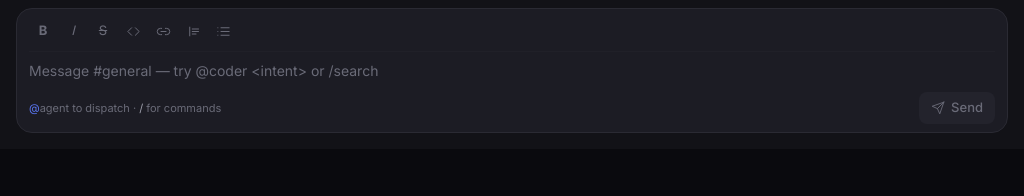
it: Composer › offers @mention autocomplete and inserts the picked handle (#108)
Type "@co" into the text box with placeholder "Message #general — try @coder <intent> or /search". click: (512, 72)
box: x1=29 y1=60 x2=995 y2=84
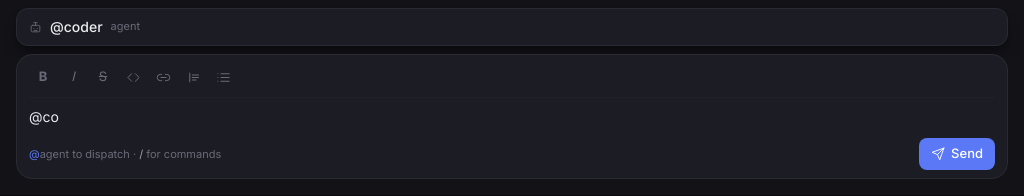
Result: the text "@coder" is shown
Click the text "@coder". click: (76, 27)
box: x1=50 y1=17 x2=103 y2=37
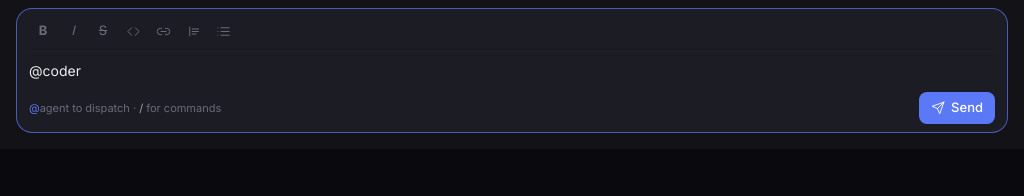
Result: the text box with placeholder "Message #general — try @coder <intent> or /search" holds "@coder " at x1=29 y1=60 x2=995 y2=84
